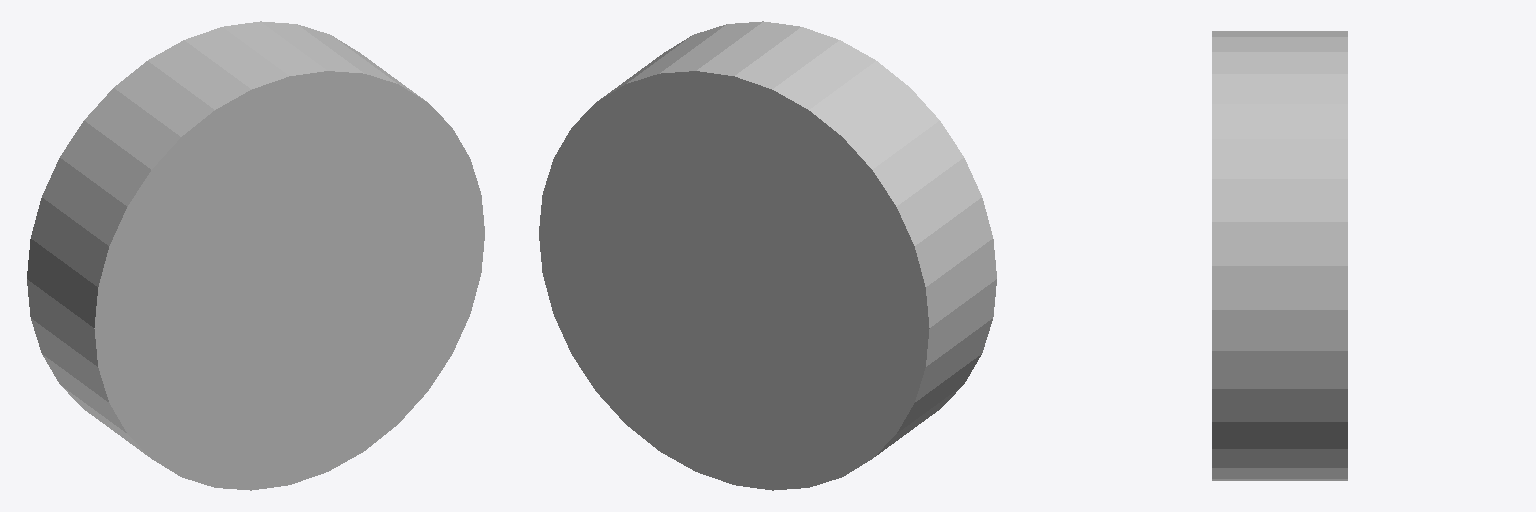
File: carwheel.obj
3 views of the same model, side by side, from view 1: azimuth 30°, elevation 25°; view 2: azimuth 150°, elevation 25°; view 3: azimuth 270°, elevation 25° (orthographic).
Parts seen in each view (by area): view 1: Cylinder; view 2: Cylinder; view 3: Cylinder.
Part boxes in pixels (x1,y1,x2,y2): Cylinder: (27,21,484,490); Cylinder: (539,21,996,490); Cylinder: (1212,31,1347,480).
Bounding box in the file's own units: 1 × 1 × 0.3.